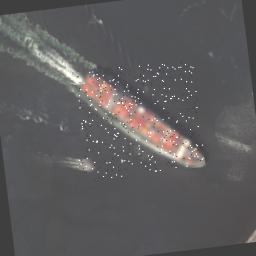boat: (75, 58, 205, 180), (78, 158, 94, 170)
